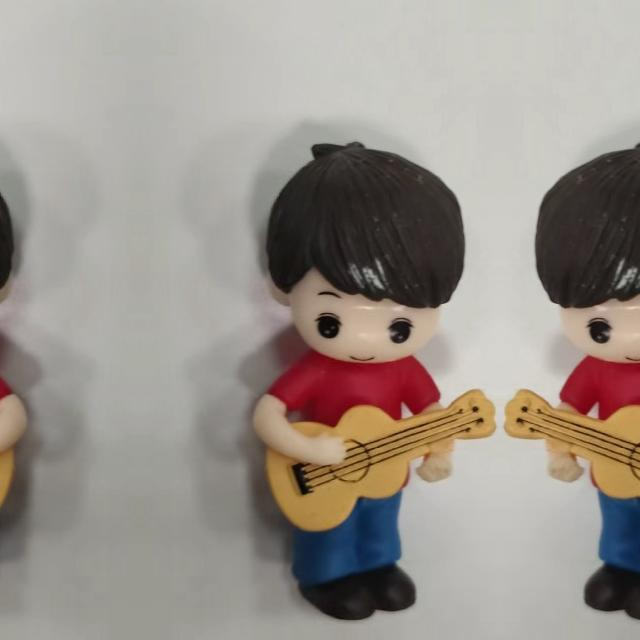man cloth: (266, 352, 444, 496), (556, 352, 640, 496), (0, 352, 13, 496)
man head: (256, 136, 472, 366), (528, 136, 640, 366), (0, 136, 23, 366)
trousers: (288, 489, 424, 621), (575, 489, 640, 621)
